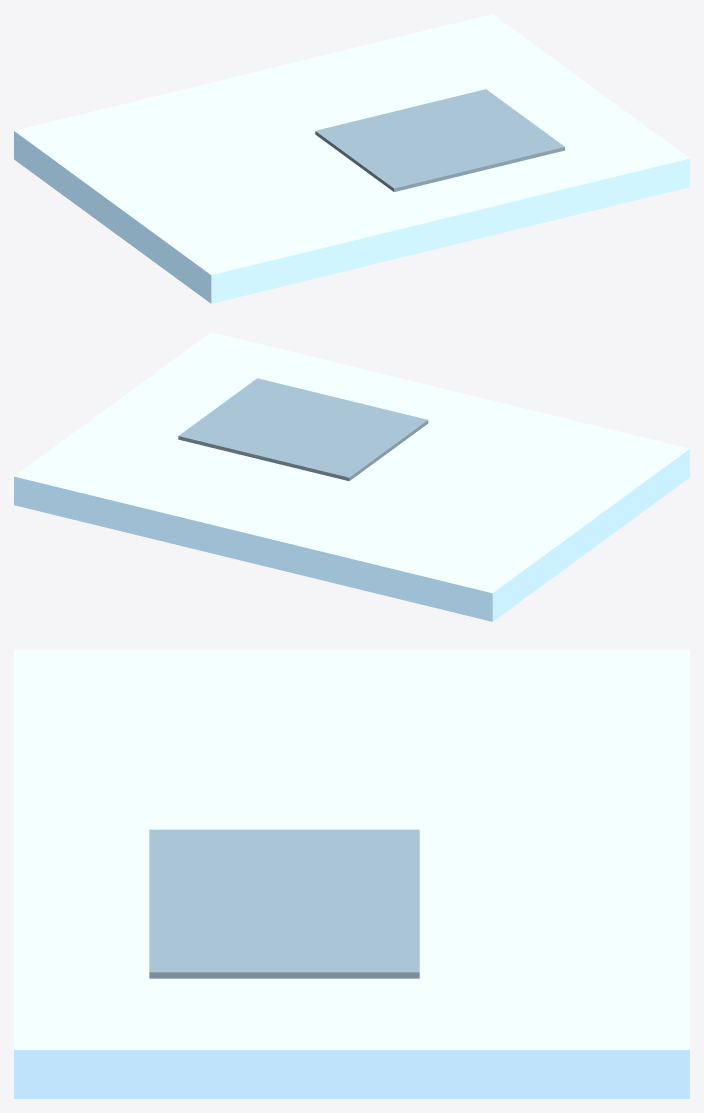
The model's file is built-ice-sheet.glb.
3 views of the same model, one above another, from view 1: azimuth 30°, elevation 25°; view 2: azimuth 150°, elevation 25°; view 3: azimuth 270°, elevation 25° (orthographic). The views are drawn at different scales.
Parts seen in each view (by area): view 1: built-ice-sheet; view 2: built-ice-sheet; view 3: built-ice-sheet.
Part boxes in pixels (x1,y1,x2,y2): built-ice-sheet: [14, 14, 689, 303]; built-ice-sheet: [14, 332, 689, 621]; built-ice-sheet: [14, 650, 689, 1098].
Bounding box in the file's own units: 1.4 × 0.09 × 1.
